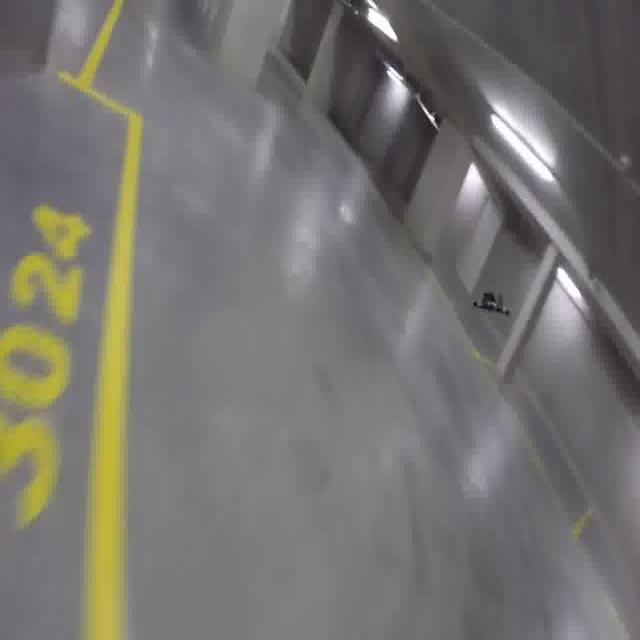drones: (470, 278, 513, 330)
